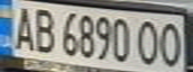0: (112, 13, 133, 64)
6: (57, 8, 81, 57)
8: (75, 10, 96, 60)
9: (93, 12, 115, 62)
A: (9, 2, 39, 52)
B: (30, 4, 57, 54)
O: (133, 17, 163, 68), (157, 18, 187, 69)
